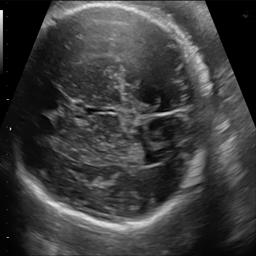normal: (11, 3, 217, 231)
